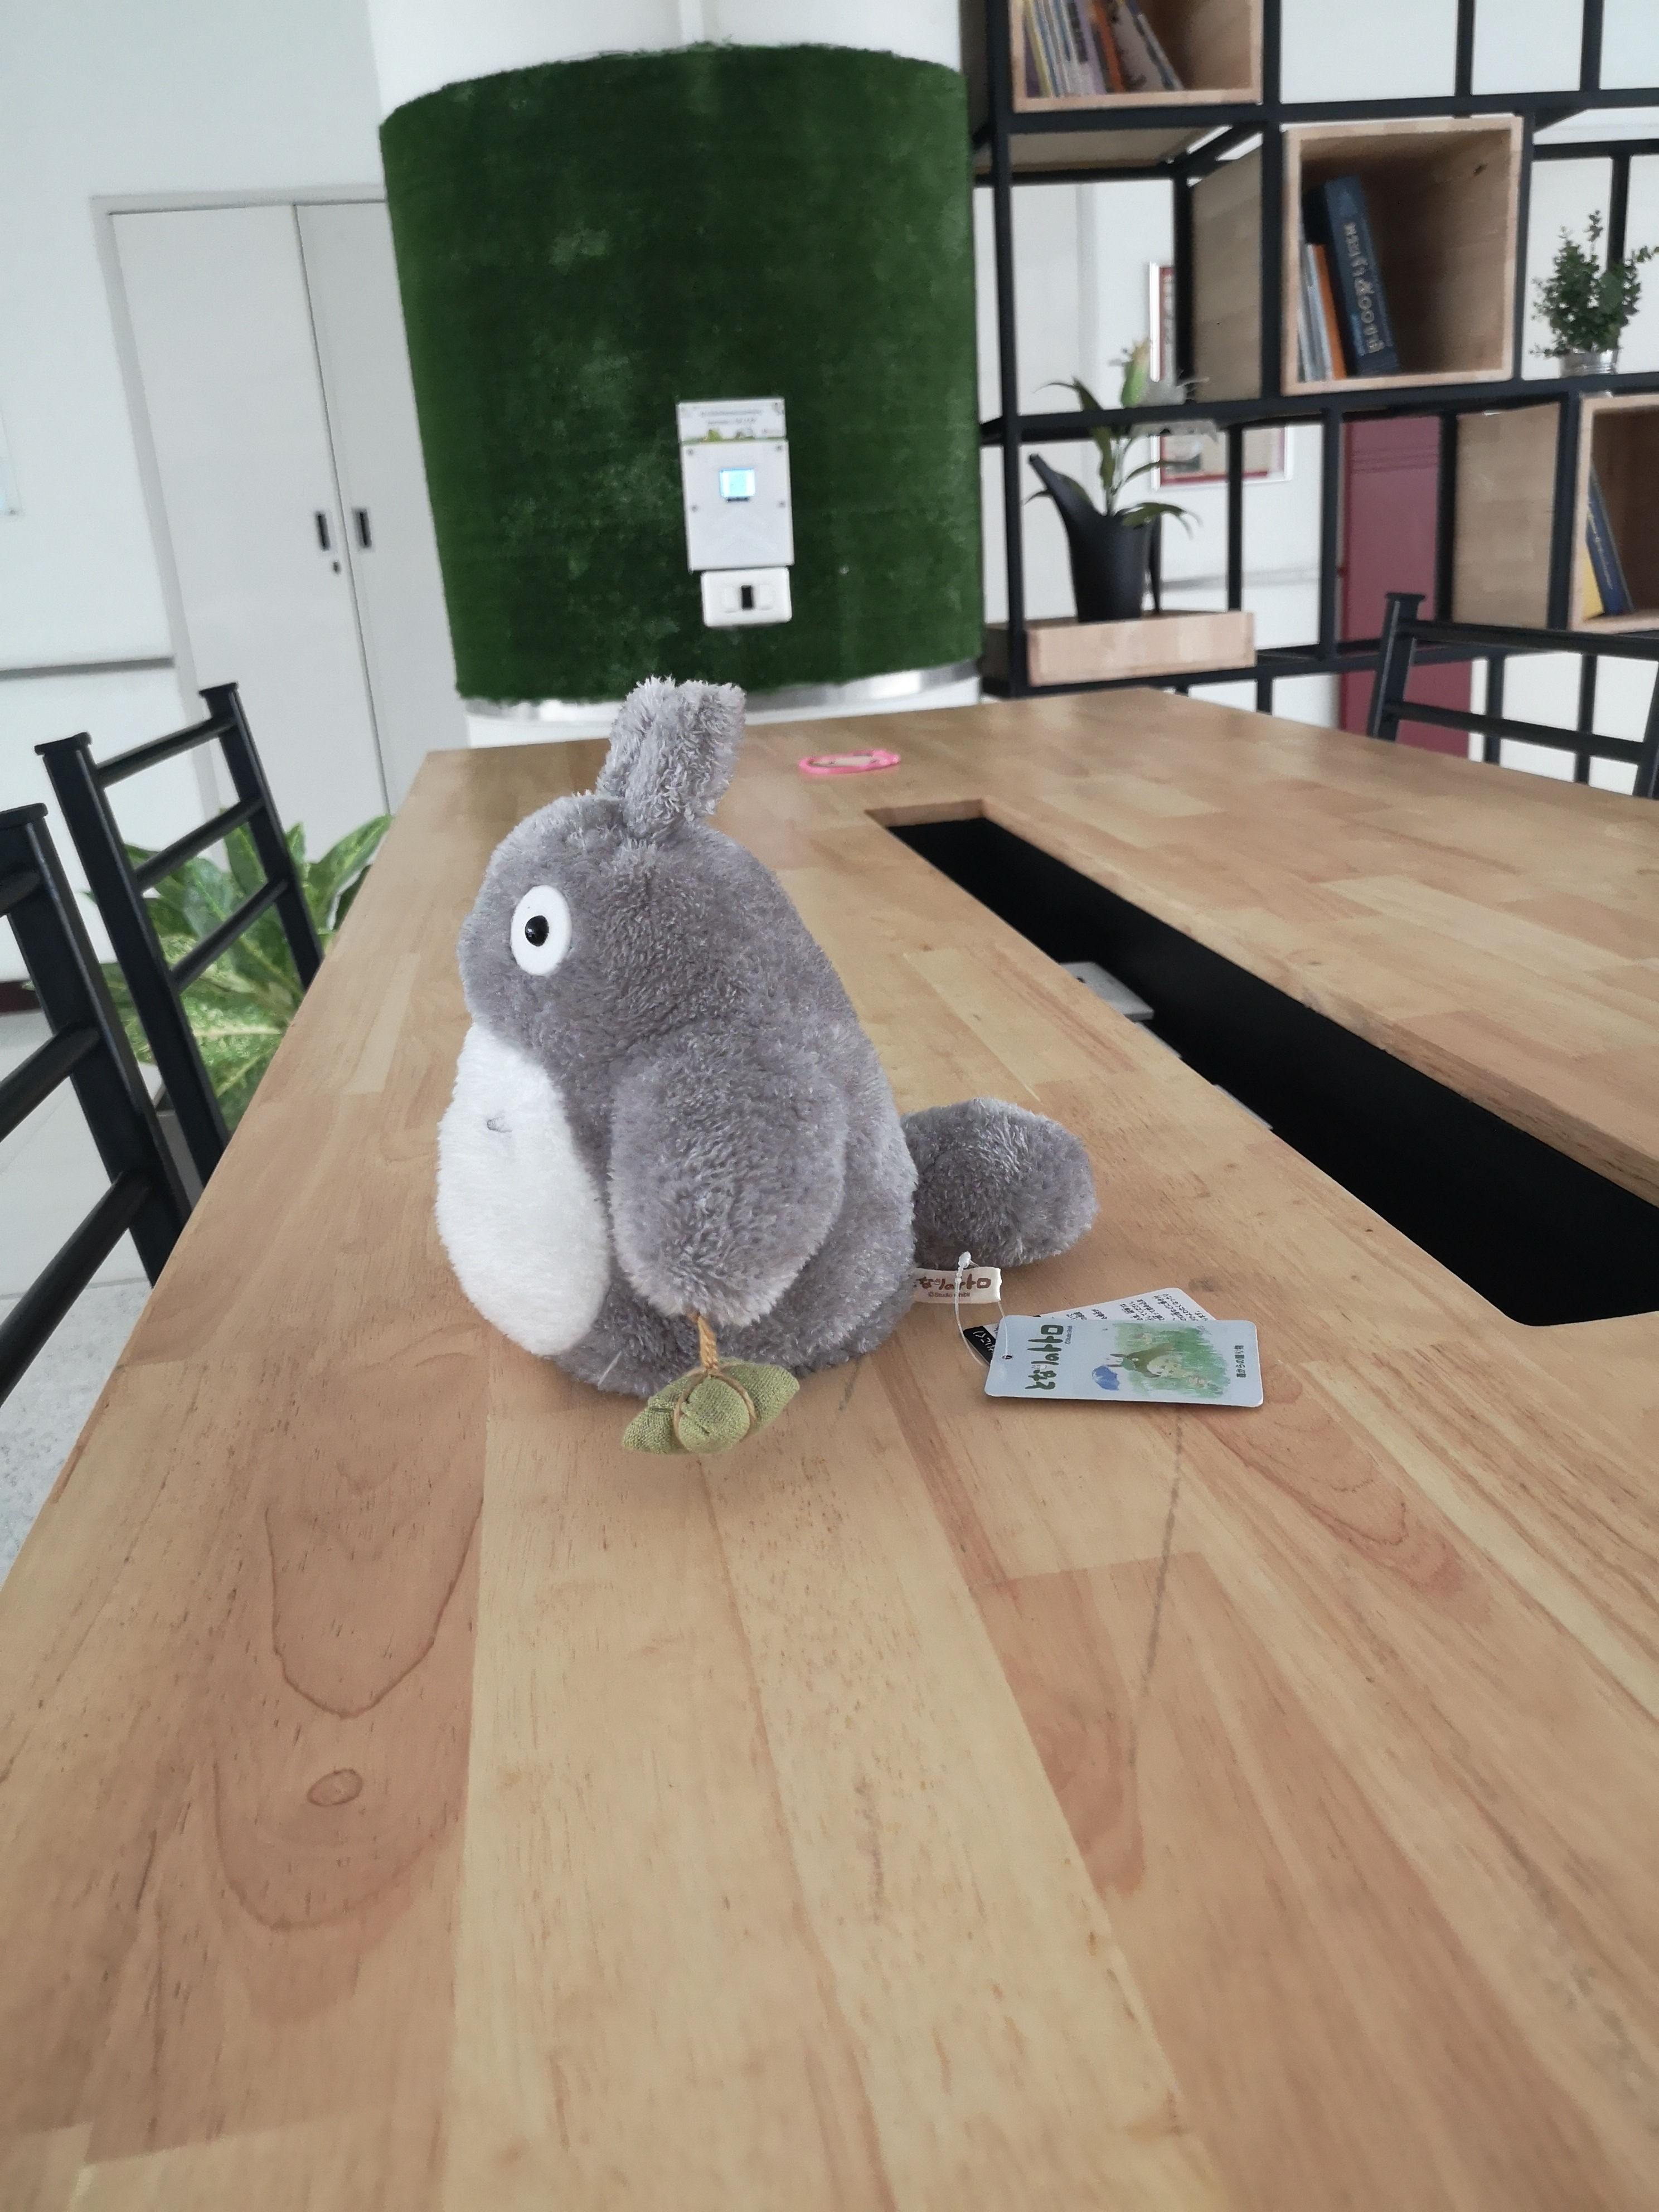totoro: (427, 671, 1011, 1468)
